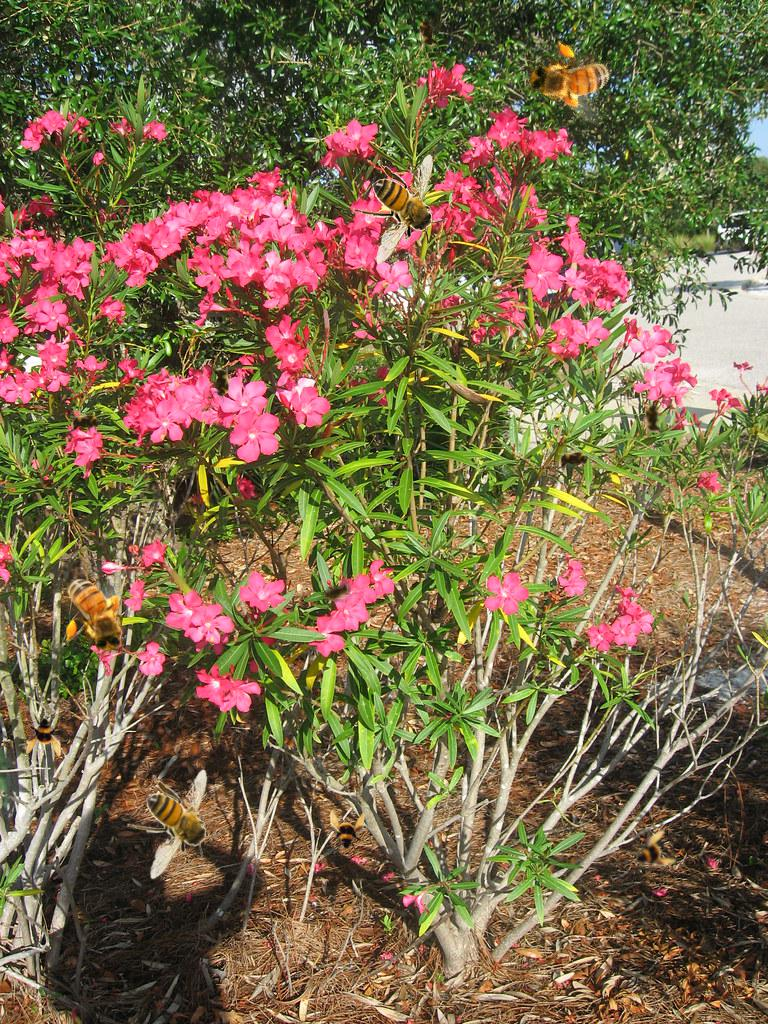Bee: (514, 29, 628, 132), (353, 154, 447, 265), (127, 769, 221, 880), (62, 566, 130, 659), (621, 822, 681, 882), (323, 810, 367, 854), (24, 713, 68, 757), (313, 574, 359, 610), (414, 10, 442, 54), (210, 363, 232, 403), (642, 398, 664, 438), (554, 449, 594, 471), (66, 412, 106, 434)
